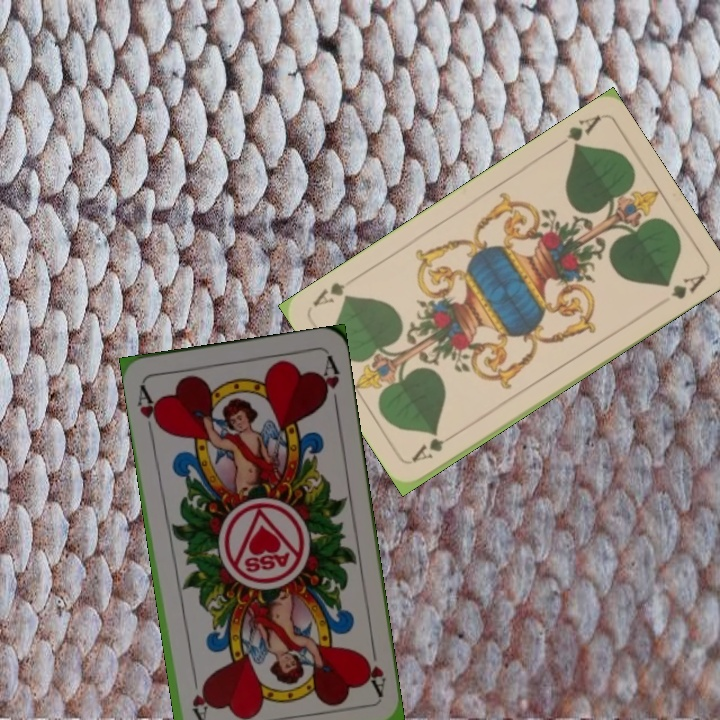GA: (551, 111, 603, 153), (408, 427, 461, 465)
HA: (133, 380, 164, 438), (359, 638, 388, 697)
